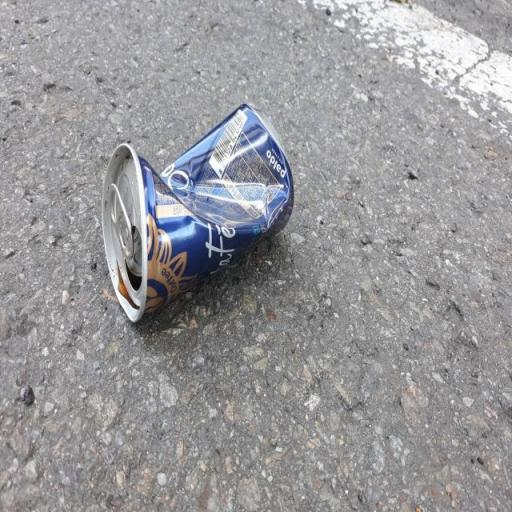metal: (80, 90, 333, 368)
